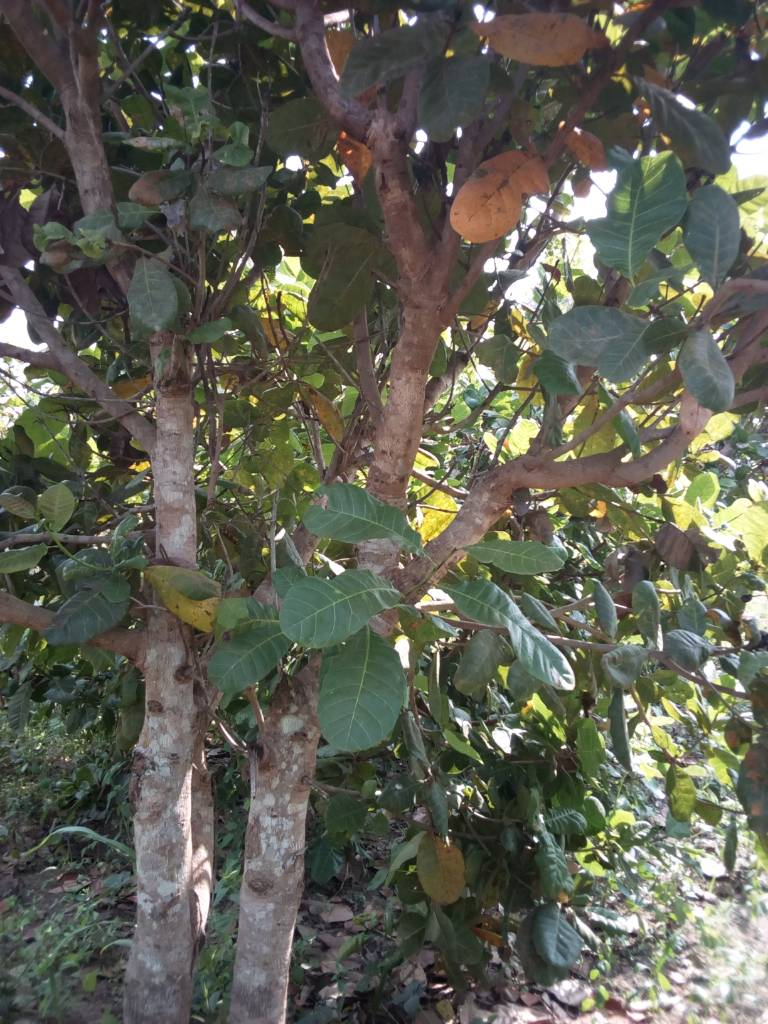Bactériose: (449, 150, 552, 244)
